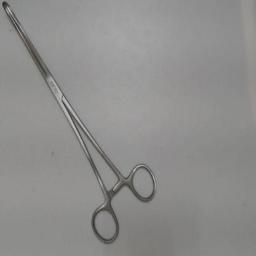Sponge Forceps: (0, 0, 162, 248)
